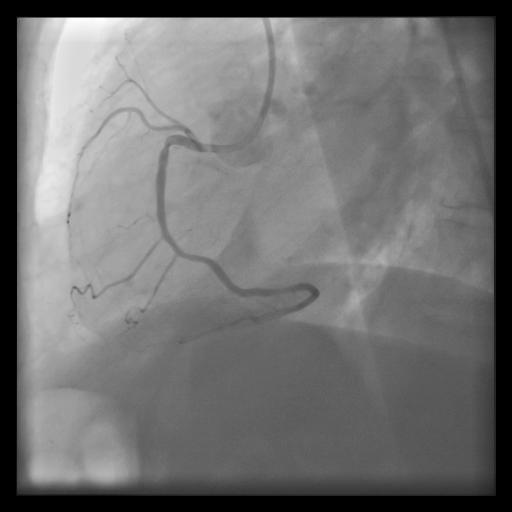Stenosis: (155, 134, 173, 154)
